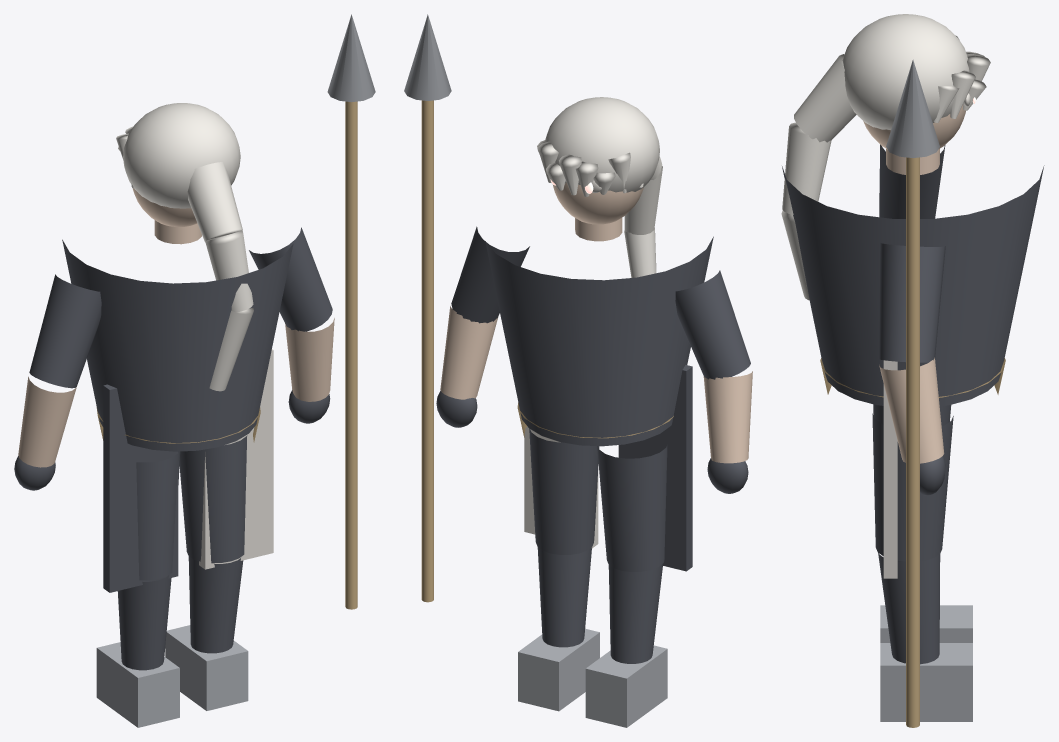
Rendered from yeri-procedural-v1.glb.
3 views of the same model, side by side, from view 1: azimuth 30°, elevation 25°; view 2: azimuth 150°, elevation 25°; view 3: azimuth 270°, elevation 25° (orthographic). The views are drawn at different scales.
Visible parts, largest first — view 1: Outfit_Torso, Hair_Cap, Outfit_CoatTail_L, Body_Thigh_R, Weapon_SpearShaft, Body_UpperArm_L, Outfit_CoatTail_R, Outfit_Boot_L, Body_Thigh_L, Outfit_Boot_R, Body_Shin_R, Body_Shin_L (+11 smaller); view 2: Outfit_Torso, Body_Thigh_L, Body_Thigh_R, Hair_Cap, Weapon_SpearShaft, Outfit_CoatTail_L, Body_UpperArm_L, Outfit_Boot_L, Outfit_Boot_R, Body_Shin_R, Body_Shin_L, Body_Forearm_L (+11 smaller); view 3: Outfit_Torso, Hair_Cap, Weapon_SpearShaft, Outfit_Boot_R, Body_UpperArm_R, Body_Thigh_R, Body_Shin_R, Body_Forearm_R, Hair_Ponytail_0, Weapon_SpearHead, Outfit_CoatTail_R, Hair_Ponytail_1 (+10 smaller).
Boxes of the visible parts, x1,y1,x2,y2 form: Outfit_Torso: (62,239,293,451); Hair_Cap: (123,103,240,208); Outfit_CoatTail_L: (103,384,178,592); Body_Thigh_R: (178,435,247,563); Weapon_SpearShaft: (345,101,357,609); Body_UpperArm_L: (29,274,101,388); Outfit_CoatTail_R: (199,349,273,569); Outfit_Boot_L: (96,642,179,727); Body_Thigh_L: (136,451,180,580); Outfit_Boot_R: (165,625,248,710); Body_Shin_R: (188,556,243,653); Body_Shin_L: (117,575,171,670); Outfit_Torso: (485,236,713,446); Body_Thigh_L: (597,445,667,571); Body_Thigh_R: (529,429,599,554); Hair_Cap: (545,97,659,192); Weapon_SpearShaft: (421,100,433,602); Outfit_CoatTail_L: (618,365,692,571); Body_UpperArm_L: (675,270,750,379); Outfit_Boot_L: (585,645,667,727); Outfit_Boot_R: (518,628,599,711); Body_Shin_R: (537,547,591,647); Body_Shin_L: (608,564,662,663); Body_Forearm_L: (703,371,752,463); Outfit_Torso: (782,165,1044,406); Hair_Cap: (842,14,969,130); Weapon_SpearShaft: (906,157,919,727); Outfit_Boot_R: (880,643,972,721); Body_UpperArm_R: (879,243,945,362); Body_Thigh_R: (872,413,953,561); Body_Shin_R: (878,552,940,664); Body_Forearm_R: (879,357,944,463); Hair_Ponytail_0: (794,54,856,142); Weapon_SpearHead: (886,59,939,157); Outfit_CoatTail_R: (883,360,897,578); Hair_Ponytail_1: (782,122,831,214).
Bounding box in the file's own units: 1.11 × 1.97 × 0.6459.
